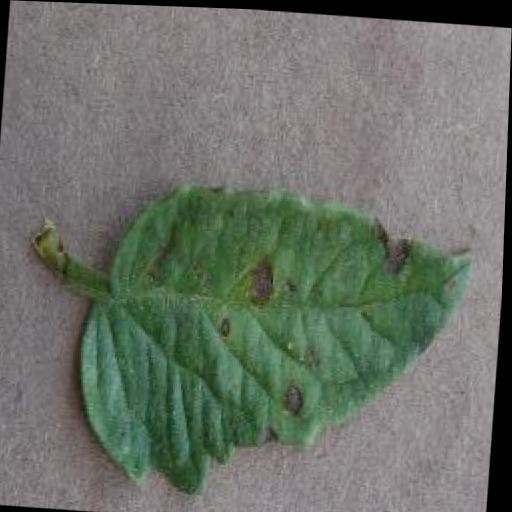Early Blight: (66, 176, 479, 512)
